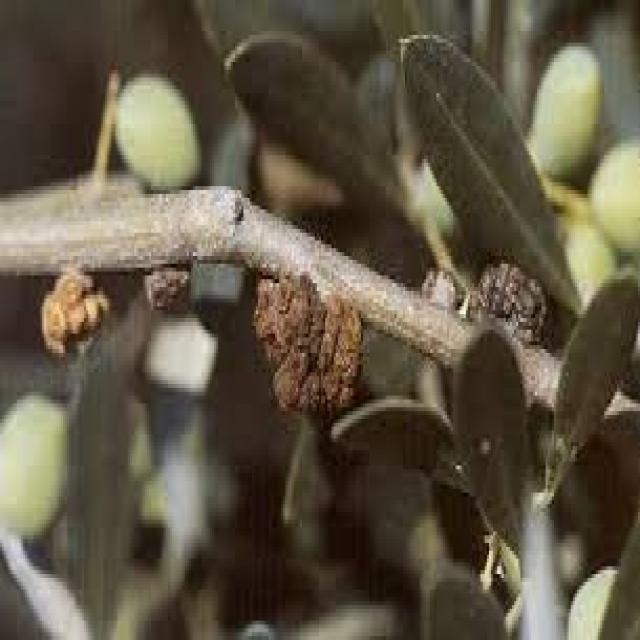Tuberculosis: (252, 272, 363, 426), (422, 260, 544, 341), (42, 268, 109, 360), (145, 264, 191, 310)
